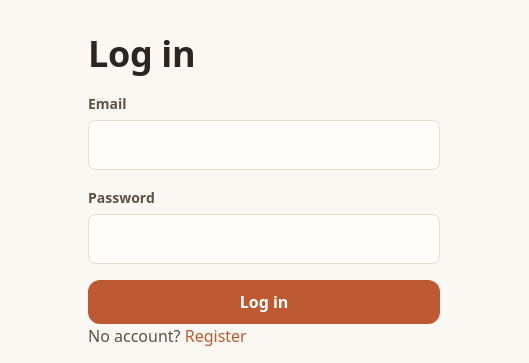
Test: auth route guard + session › login stores the token, hydrates the user, and returns to ?next
Type "owner@example.com" into the field labelled "Email". click: (264, 145)
box: 88,120 -> 440,170
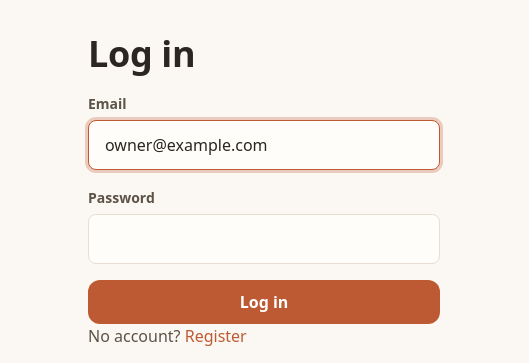
Type "password123" into the password field labelled "Password". click: (264, 239)
box: 88,214 -> 440,264
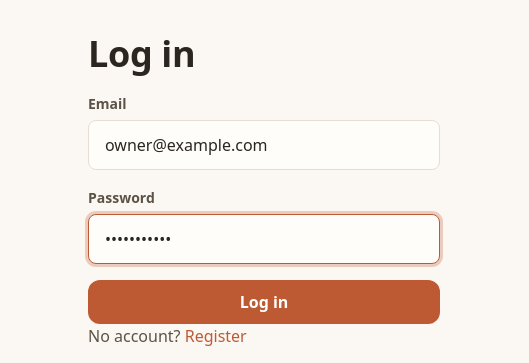
Click the button "Log in". click: (264, 302)
box: 88,280 -> 440,324
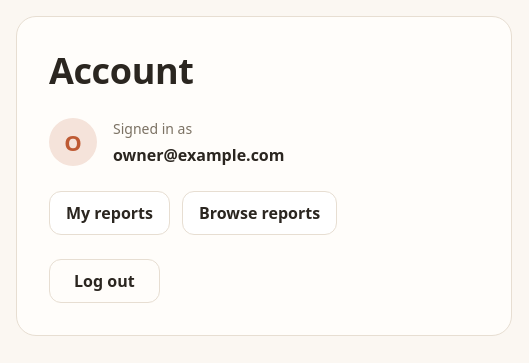
expect the text "owner@example.com" is shown: met, box 113,143 -> 284,167
